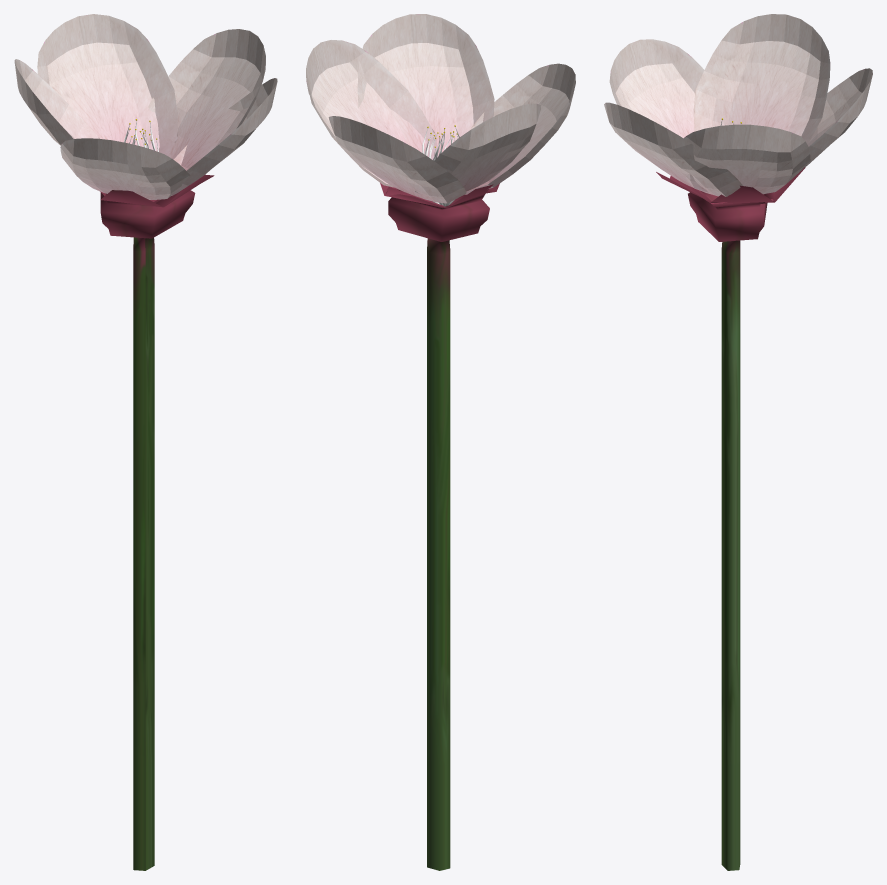
Rendered from flower4.glb.
3 renders of one model, left to right at view 1: azimuth 30°, elevation 25°; view 2: azimuth 150°, elevation 25°; view 3: azimuth 270°, elevation 25°, orthographic.
Parts seen in each view (by area): view 1: Plane, Circle; view 2: Plane, Circle; view 3: Plane, Circle.
Boxes of the visible parts, left/top/right/bottom form: Plane: left=14, top=14, right=277, bottom=199; Circle: left=100, top=174, right=214, bottom=870; Plane: left=306, top=14, right=575, bottom=203; Circle: left=380, top=183, right=499, bottom=870; Plane: left=604, top=14, right=872, bottom=196; Circle: left=656, top=167, right=805, bottom=870.
Size of the model in its own units: 0.6112 by 2.12 by 0.6447.
4 materials, 2 textured.
